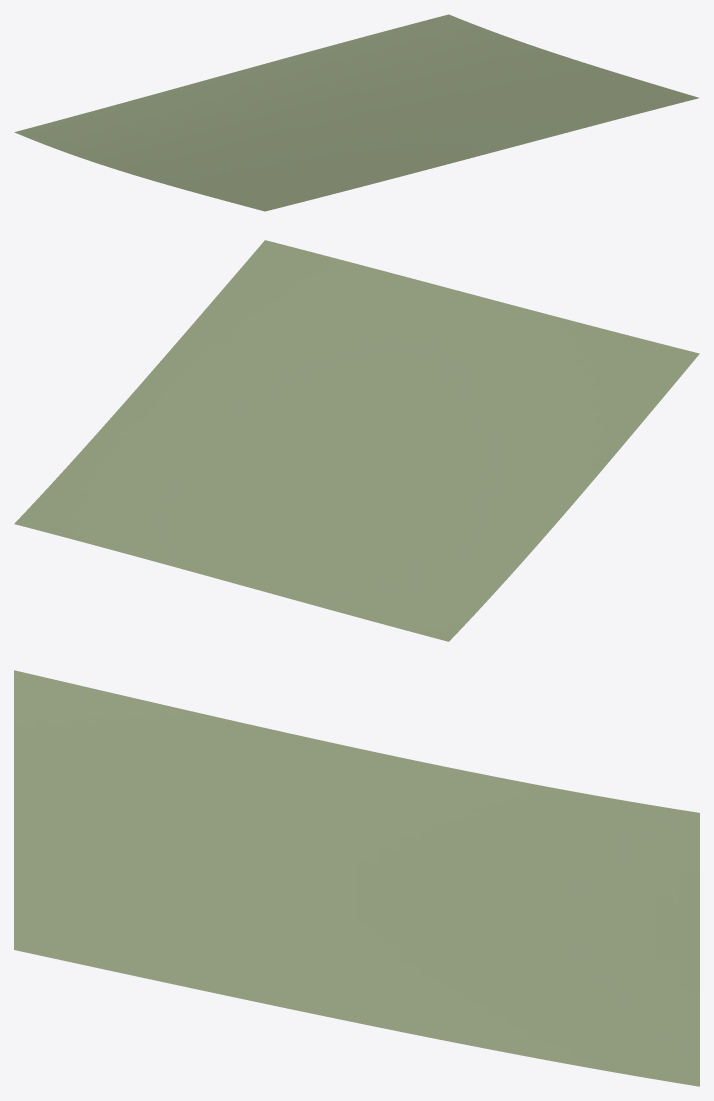
The model's file is expanse-28-4.glb.
The picture shows the model from 3 angles, top to bottom: view 1: azimuth 30°, elevation 25°; view 2: azimuth 150°, elevation 25°; view 3: azimuth 270°, elevation 25°; orthographic projection. The views are drawn at different scales.
Visible parts, largest first — view 1: expanse-28-4; view 2: expanse-28-4; view 3: expanse-28-4.
Part boxes in pixels (<box>): expanse-28-4: <box>14,14,698,211</box>; expanse-28-4: <box>14,240,699,641</box>; expanse-28-4: <box>14,670,699,1086</box>.
Bounding box in the file's own units: 256 × 62.96 × 256.
